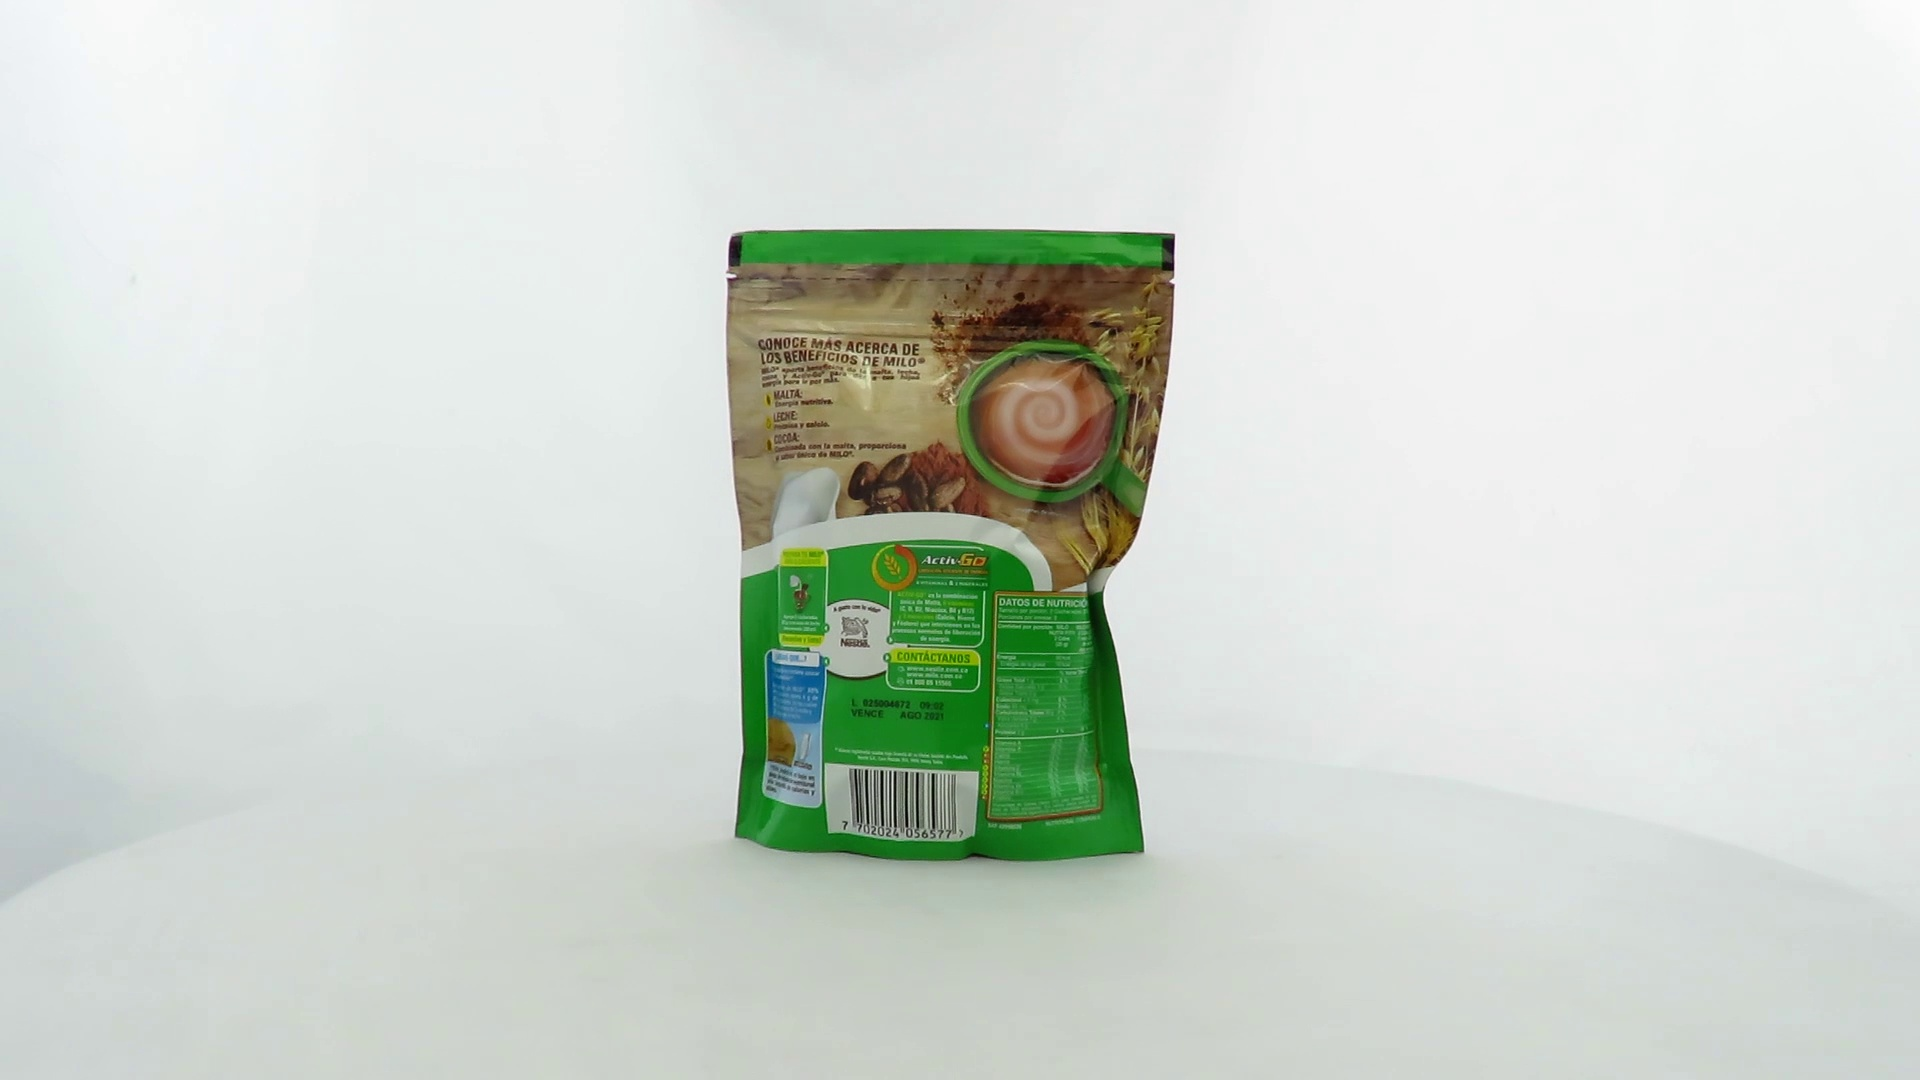COL0170205DYP20000: (721, 224, 1182, 868)
